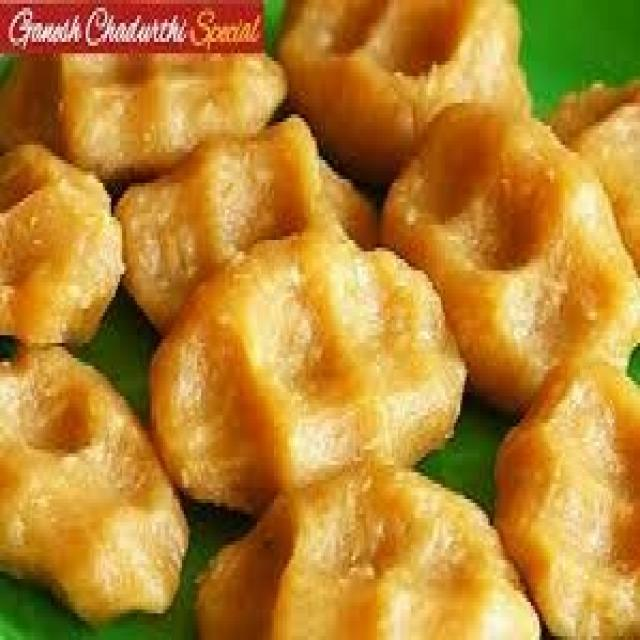pidi kolukattai: (0, 59, 640, 640)
